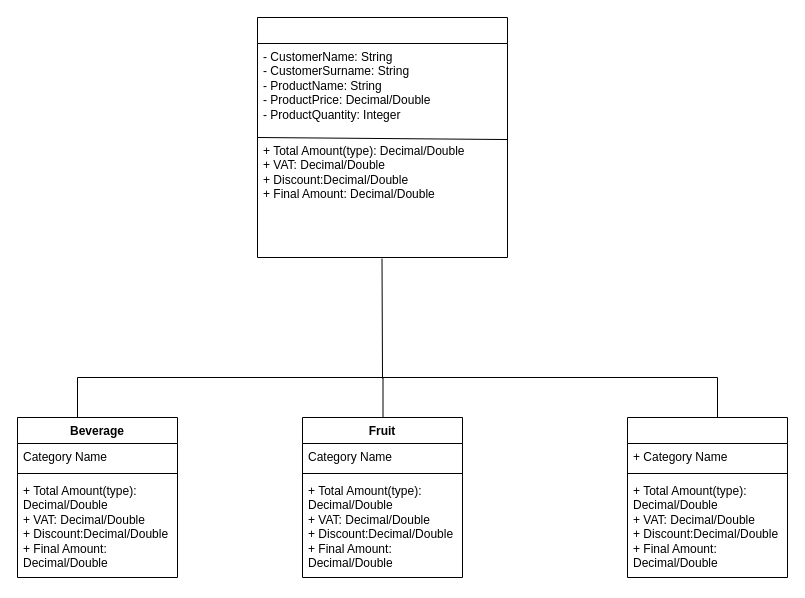
Some shapes in this 805 by 598 pixel diagram are drawn without their labels. The shapes that lost their labels are listed below. From the top down, each one's box as (x1, y1, x2, y2) in pixels, then its label:
(256, 16, 508, 258): Products
(626, 416, 788, 578): Babies
